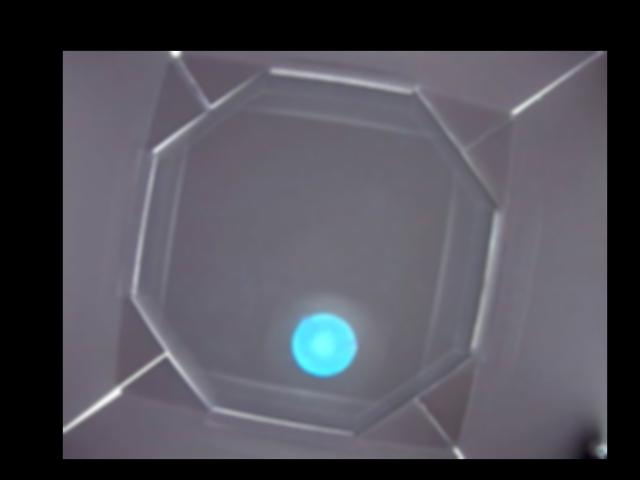Carrot: (290, 312, 357, 376)
